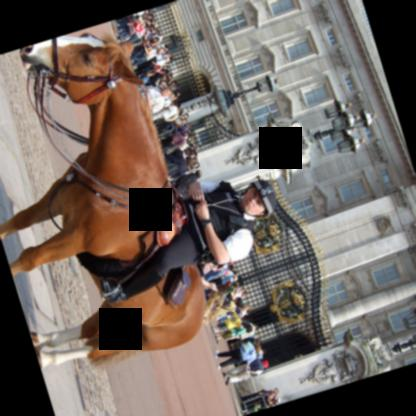handbag: (125, 23, 133, 34)
